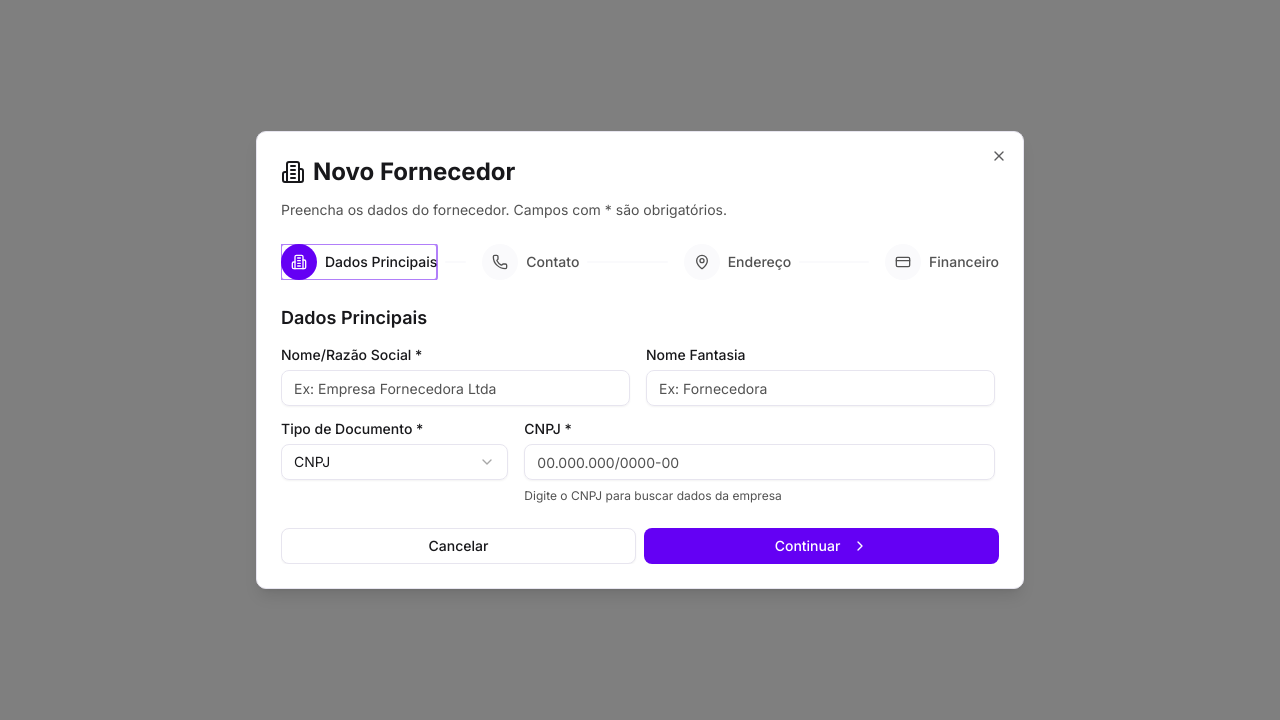
Test: SupplierFormDialog - wizard de passos › goes back to the previous step preserving data
Type "Fornecedor X" into the field labelled "Nome/Razão Social *" at [456, 388], box [281,370,630,406]
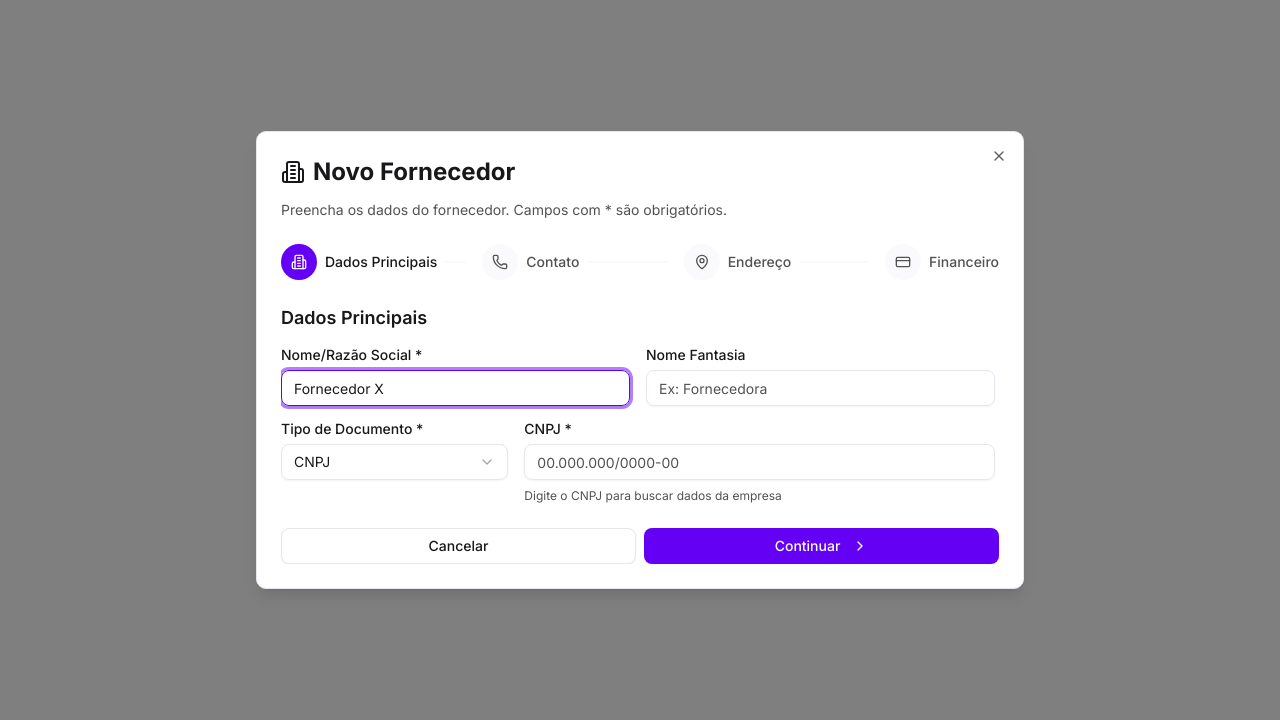
Type "11.111.111/0001-11" into the field labelled "CNPJ *" at [760, 462], box [524,444,995,480]
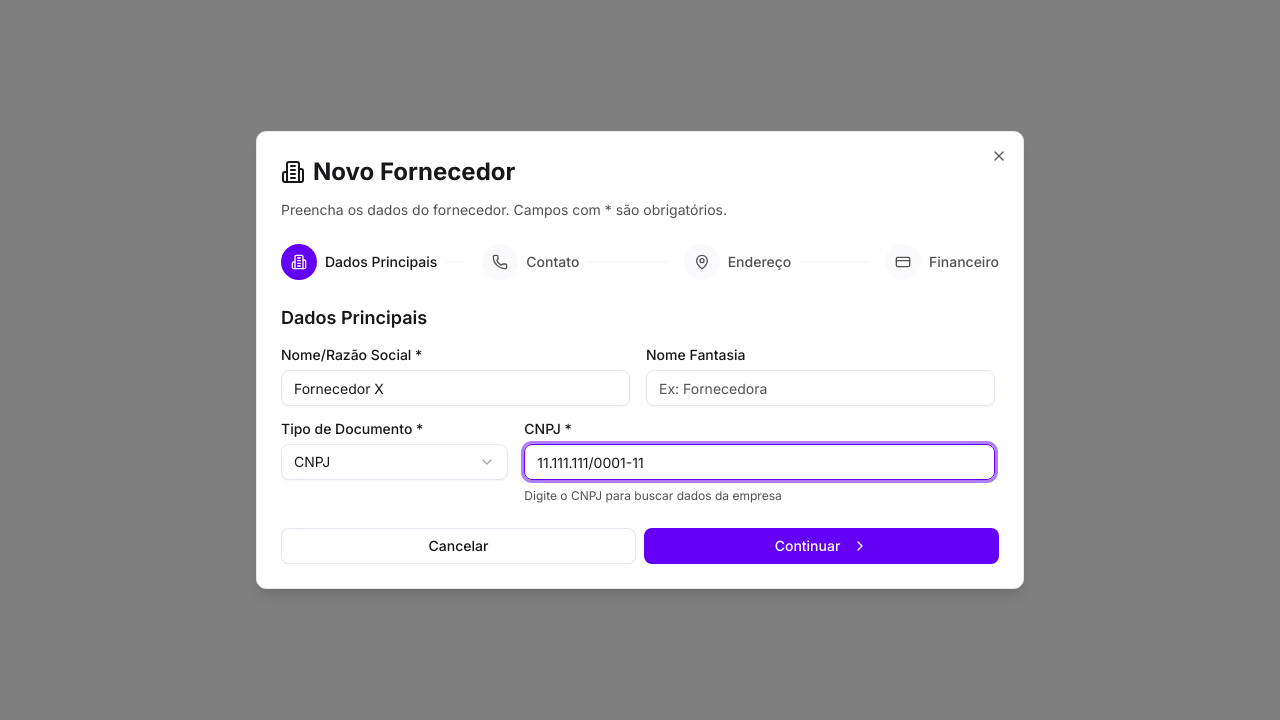
Click the button "Continuar" at [822, 546], box [644,528,999,564]
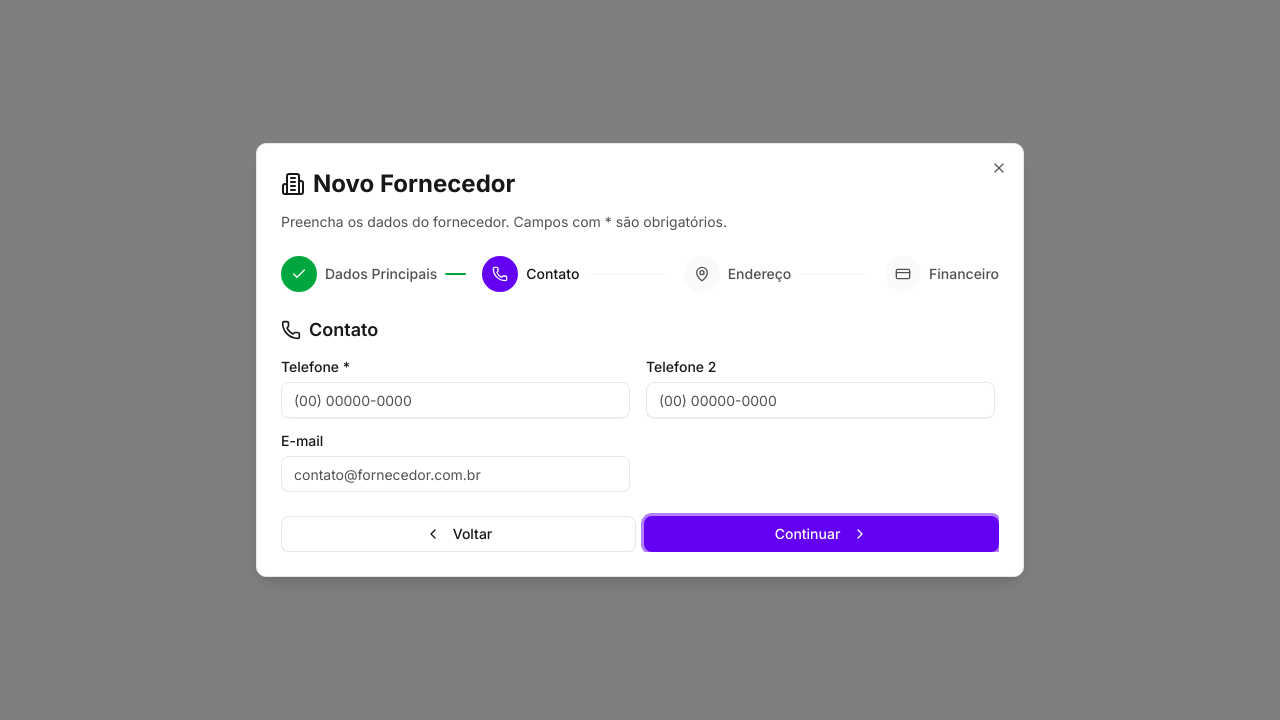
Expected: the field labelled "Telefone *" is shown, [281,382,630,418]
Click the button "Voltar" at [458, 534], box [281,516,636,552]
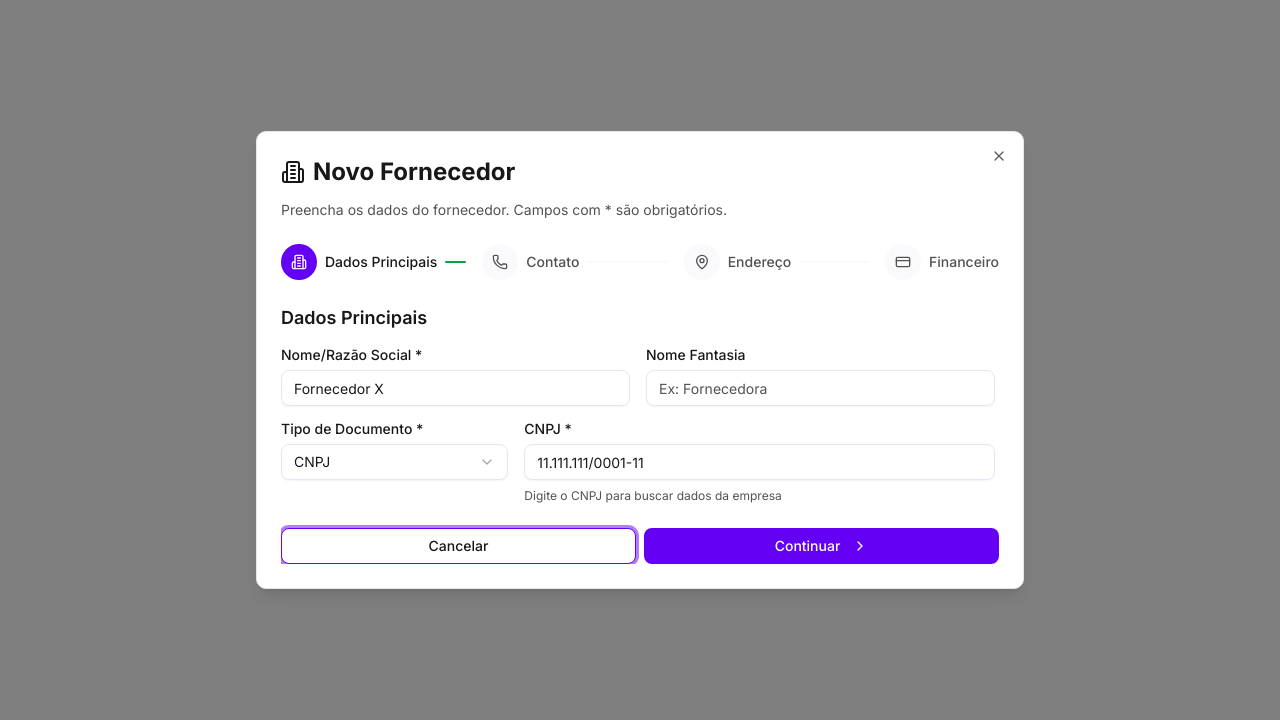
Expected: the field labelled "Nome/Razão Social *" holds "Fornecedor X", [281,370,630,406]
